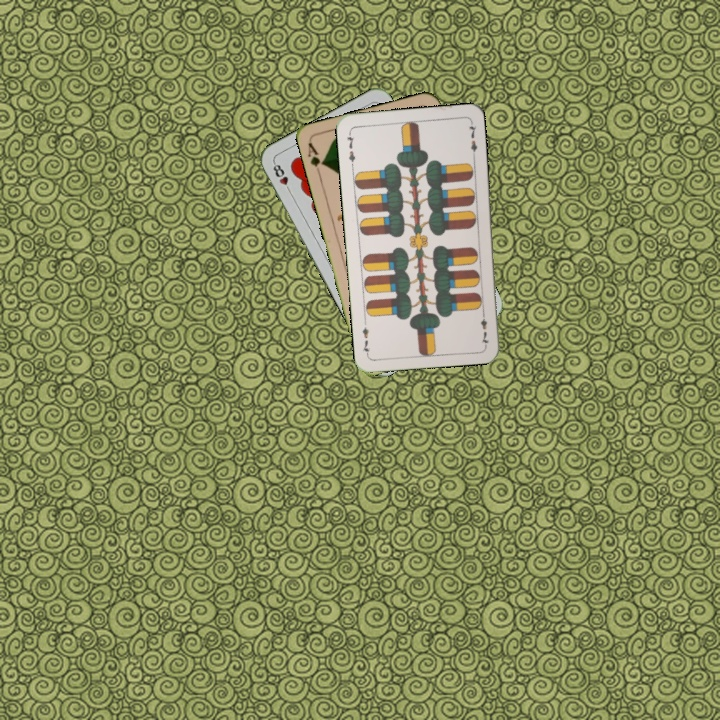E7: (343, 128, 358, 169), (476, 307, 491, 347)
GA: (304, 138, 327, 178)
H8: (269, 159, 294, 196)
